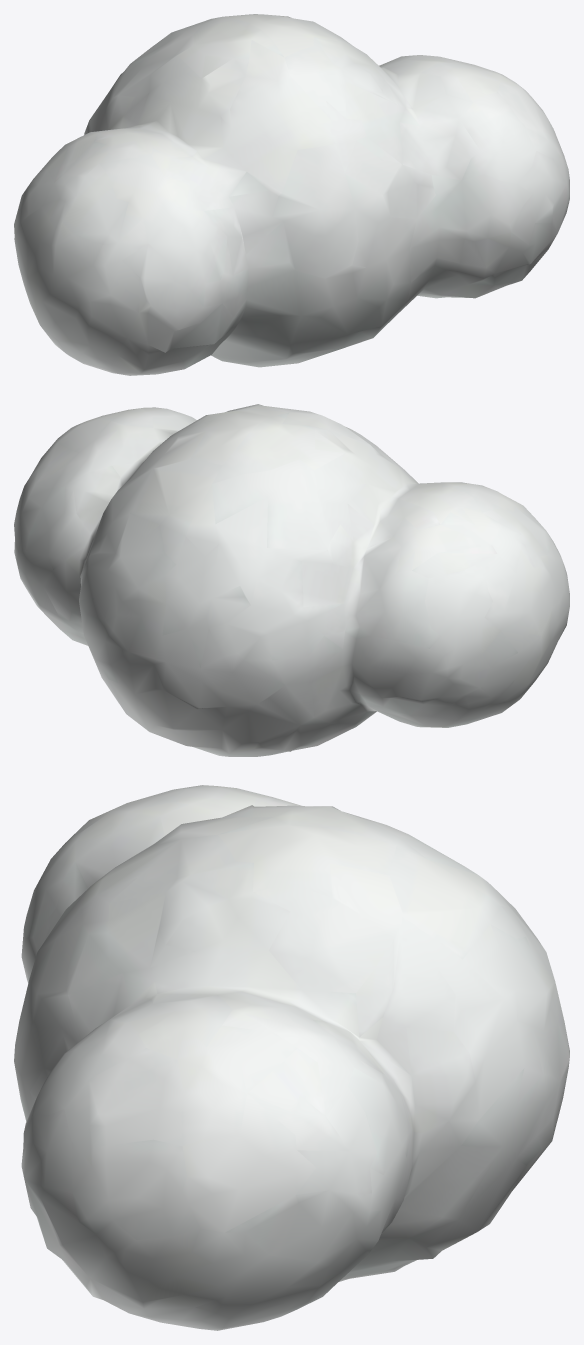
File: cloud.glb
The picture shows the model from 3 angles, top to bottom: view 1: azimuth 30°, elevation 25°; view 2: azimuth 150°, elevation 25°; view 3: azimuth 270°, elevation 25°; orthographic projection. The views are drawn at different scales.
Size of the model in its own units: 1.9 by 1.11 by 1.28.
1 material, 1 textured.
